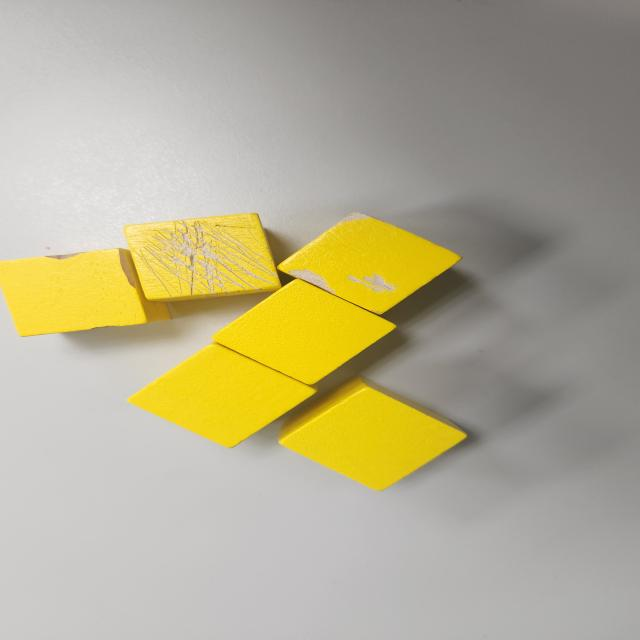broken: (271, 211, 463, 316), (0, 249, 173, 336), (118, 212, 282, 302)
yellow: (277, 376, 469, 493), (207, 278, 397, 387), (124, 342, 321, 447)
